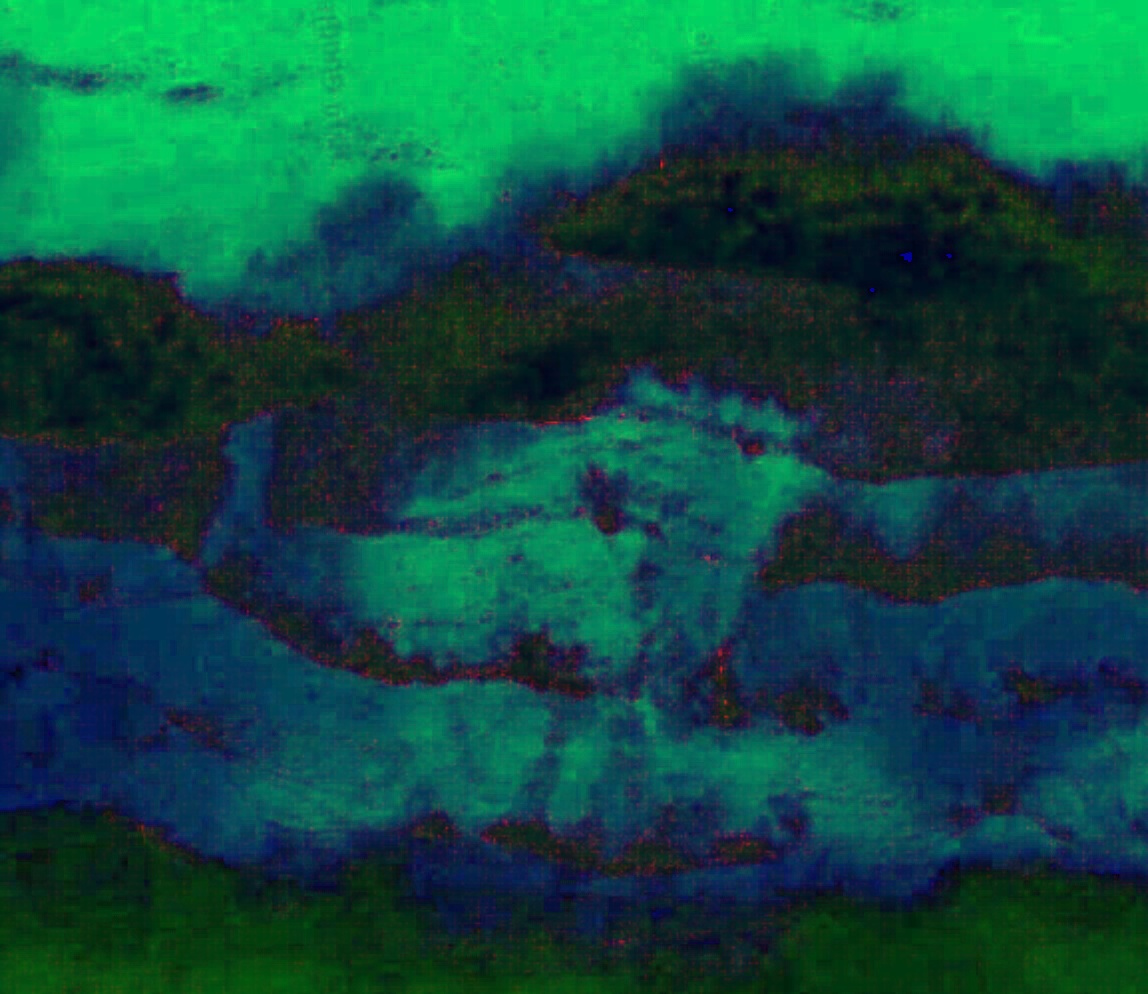rip_current: (362, 345, 812, 837)
